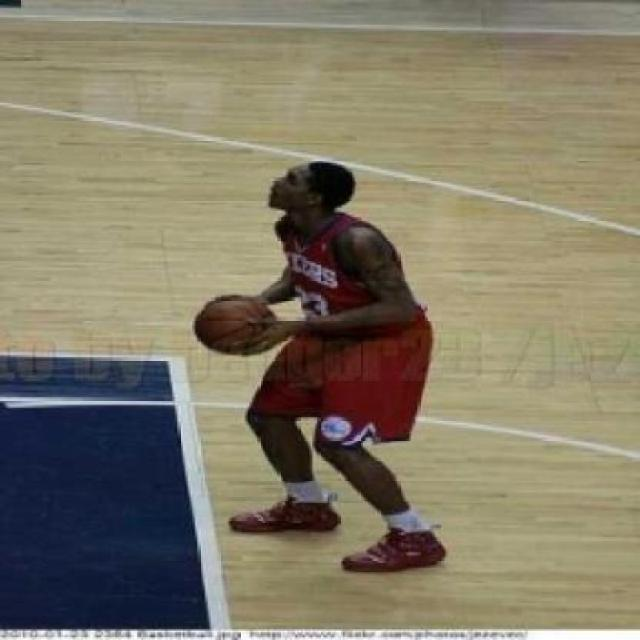ball: (194, 296, 273, 354)
